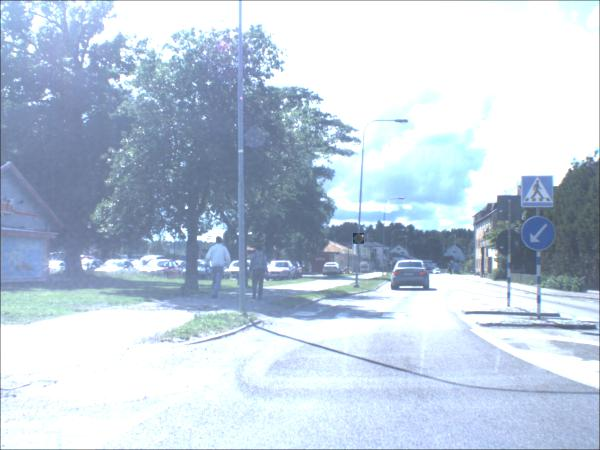PASS_RIGHT_SIDE: (520, 217, 557, 254)
PEDESTRIAN_CROSSING: (521, 176, 554, 210)
PRIORITY_ROAD: (353, 234, 365, 246)
